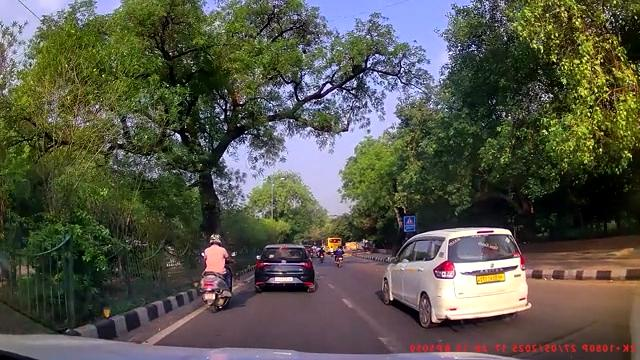motorcycle_with_helmet: (198, 233, 235, 313)
